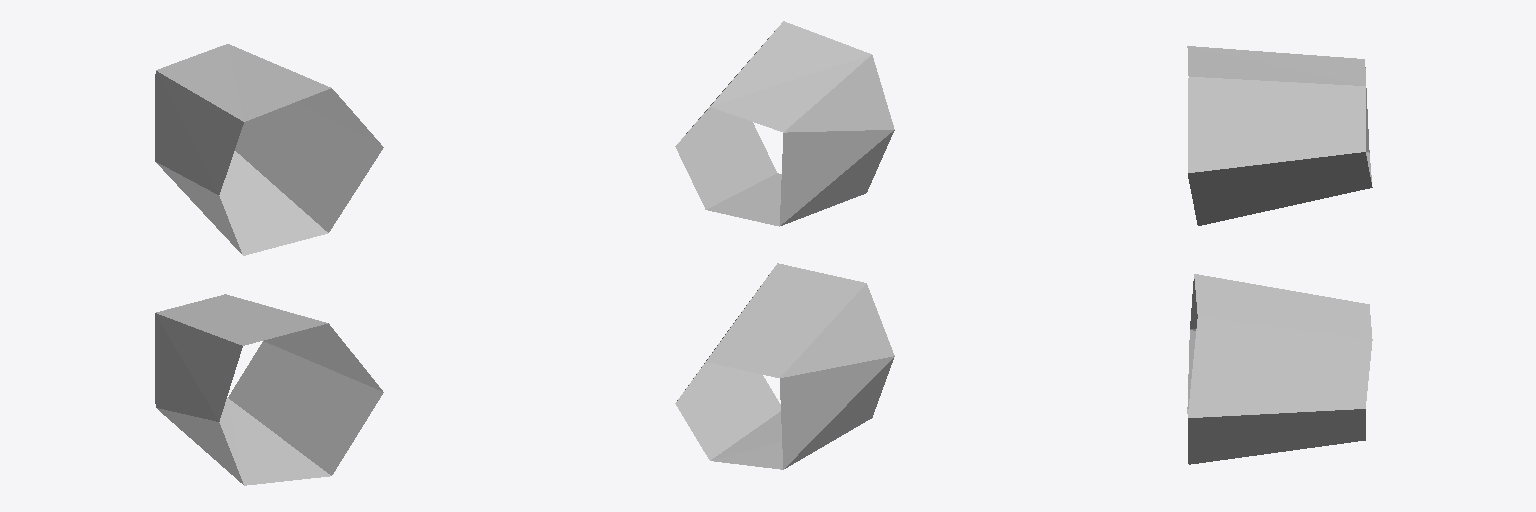
The picture shows the model from 3 angles: view 1: azimuth 30°, elevation 25°; view 2: azimuth 150°, elevation 25°; view 3: azimuth 270°, elevation 25°; orthographic projection.
Parts seen in each view (by area): view 1: vr_foot_001_1; view 2: vr_foot_001_1; view 3: vr_foot_001_1.
Part boxes in pixels (left/top/right/bottom): vr_foot_001_1: left=155, top=44, right=383, bottom=485; vr_foot_001_1: left=675, top=21, right=894, bottom=469; vr_foot_001_1: left=1187, top=46, right=1372, bottom=464.
Size of the model in its own units: 12.59 by 28.56 by 12.35.